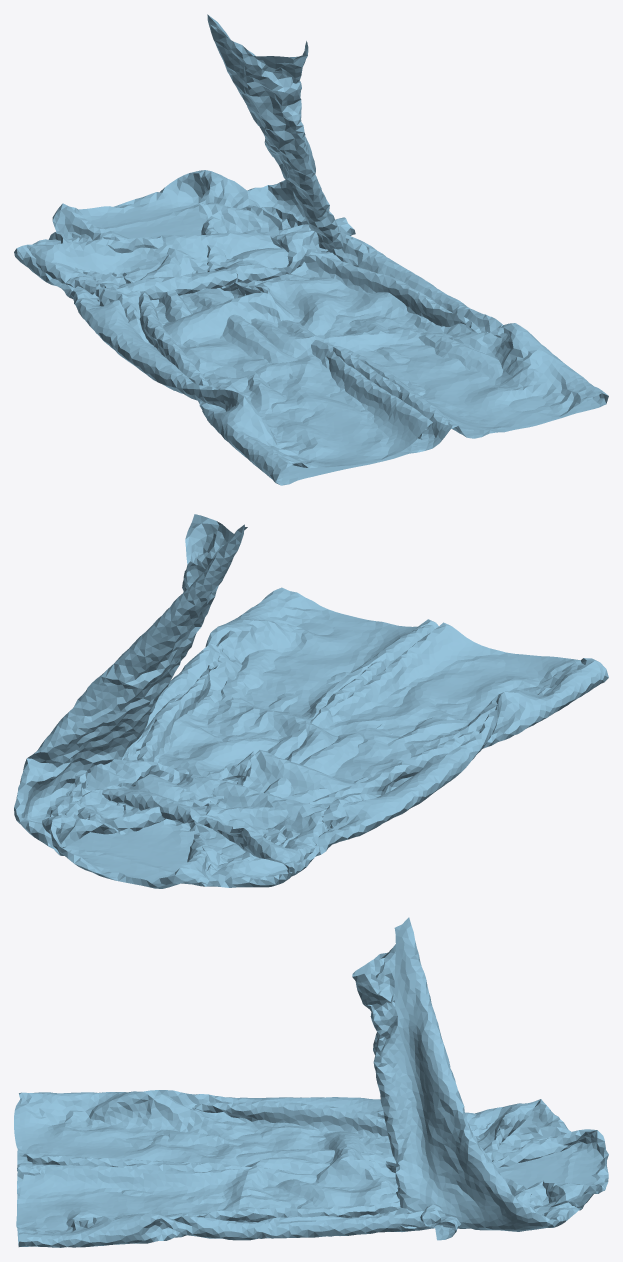
Rendered from frame_14.glb.
3 views of the same model, one above another, from view 1: azimuth 30°, elevation 25°; view 2: azimuth 150°, elevation 25°; view 3: azimuth 270°, elevation 25° (orthographic). The views are drawn at different scales.
Visible parts, largest first — view 1: frame_14.obj; view 2: frame_14.obj; view 3: frame_14.obj.
Boxes of the visible parts, x1,y1,x2,y2 form: frame_14.obj: [14, 14, 608, 485]; frame_14.obj: [14, 514, 608, 888]; frame_14.obj: [14, 917, 608, 1247].
Bounding box in the file's own units: 0.9619 × 0.7764 × 1.65.
